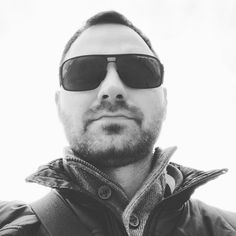sunglasses: (55, 53, 162, 86), (55, 59, 162, 86)
